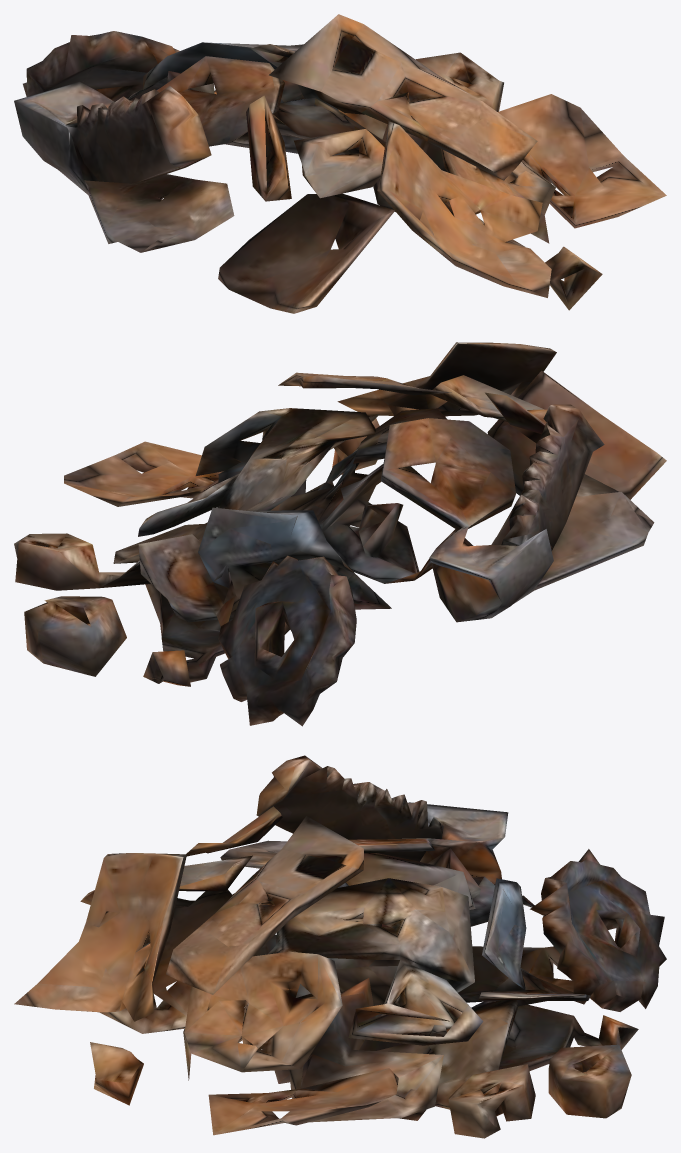
File: qi_scrap.glb
3 views of the same model, one above another, from view 1: azimuth 30°, elevation 25°; view 2: azimuth 150°, elevation 25°; view 3: azimuth 270°, elevation 25° (orthographic). The views are drawn at different scales.
Parts seen in each view (by area): view 1: tripo_node_dc3473fc-8555-4d6e-84f8-0194201a8f62; view 2: tripo_node_dc3473fc-8555-4d6e-84f8-0194201a8f62; view 3: tripo_node_dc3473fc-8555-4d6e-84f8-0194201a8f62.
Boxes of the visible parts, x1,y1,x2,y2 form: tripo_node_dc3473fc-8555-4d6e-84f8-0194201a8f62: [14, 14, 666, 313]; tripo_node_dc3473fc-8555-4d6e-84f8-0194201a8f62: [14, 342, 666, 726]; tripo_node_dc3473fc-8555-4d6e-84f8-0194201a8f62: [14, 755, 666, 1138].
Size of the model in its own units: 0.8695 by 0.3474 by 1.
1 material, 1 textured.
